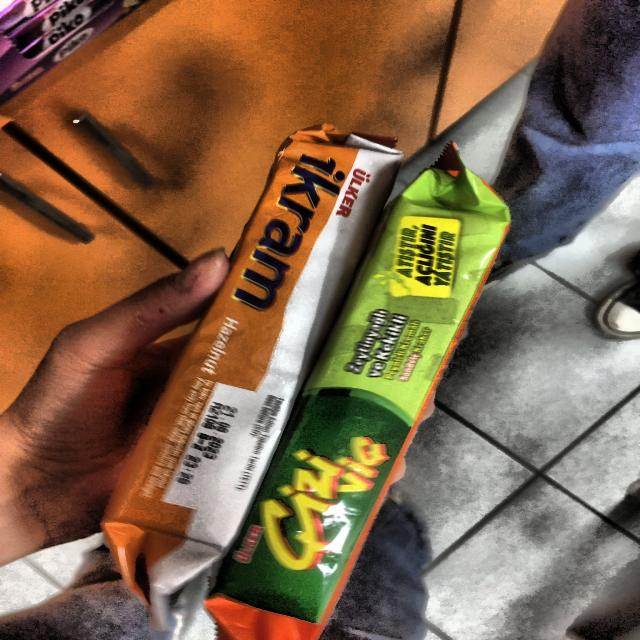Plastic: (113, 110, 406, 598), (224, 160, 514, 640)
